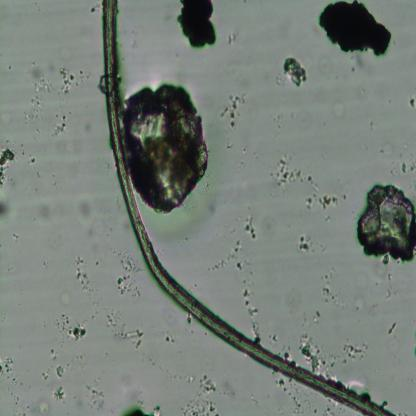Background material: (113, 82, 214, 216), (353, 178, 416, 264), (317, 0, 393, 58), (150, 196, 211, 240), (176, 0, 219, 52), (298, 328, 339, 378), (22, 64, 53, 127), (181, 372, 220, 416), (106, 310, 143, 350), (270, 374, 305, 416), (271, 156, 314, 188), (54, 66, 90, 102), (205, 238, 243, 272), (53, 313, 90, 346), (242, 286, 262, 344), (273, 56, 309, 88), (219, 91, 249, 128), (74, 257, 95, 298), (321, 267, 341, 310), (114, 244, 144, 272), (0, 147, 18, 189), (86, 377, 106, 413), (338, 338, 368, 362), (117, 272, 142, 298), (121, 401, 162, 416), (52, 111, 70, 138), (33, 199, 52, 223), (298, 236, 324, 253), (243, 214, 260, 240), (0, 354, 17, 380), (78, 199, 96, 223), (31, 395, 51, 416), (223, 374, 238, 399), (318, 193, 340, 209), (0, 199, 14, 222), (83, 226, 102, 242), (50, 385, 66, 404), (269, 109, 283, 130), (385, 272, 396, 297), (8, 385, 21, 406), (161, 328, 177, 344), (400, 158, 416, 173), (332, 101, 346, 118), (261, 216, 274, 234), (348, 58, 364, 72), (226, 30, 238, 46), (59, 292, 72, 306), (320, 404, 335, 416), (0, 108, 10, 125), (90, 0, 103, 13), (72, 140, 82, 154), (388, 321, 398, 335), (304, 196, 314, 209), (55, 365, 64, 379), (26, 154, 37, 165), (43, 368, 52, 381), (184, 313, 194, 324), (33, 1, 42, 13), (236, 260, 245, 272), (268, 333, 278, 343), (407, 96, 416, 107), (313, 312, 321, 324), (311, 404, 318, 416), (51, 347, 57, 361), (74, 354, 84, 362), (84, 122, 92, 132), (226, 140, 233, 151), (90, 311, 98, 320), (324, 214, 332, 222), (378, 144, 384, 154), (14, 232, 19, 242), (6, 266, 14, 272), (36, 170, 41, 179), (52, 181, 58, 188), (343, 192, 347, 200), (95, 260, 99, 266), (242, 147, 246, 153), (0, 242, 4, 248), (9, 65, 12, 70)
Microfibre: (100, 0, 392, 416)
